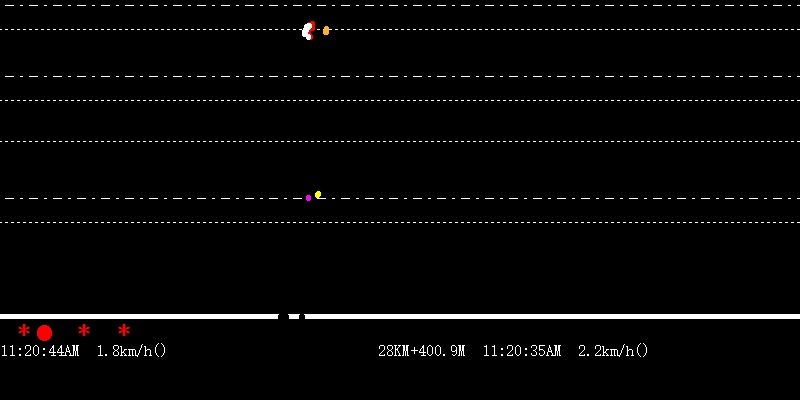circle: (36, 321, 51, 342)
face_1: (320, 24, 330, 38)
face_s: (301, 19, 318, 42)
star: (116, 320, 131, 341), (15, 320, 31, 339), (75, 320, 92, 337)
